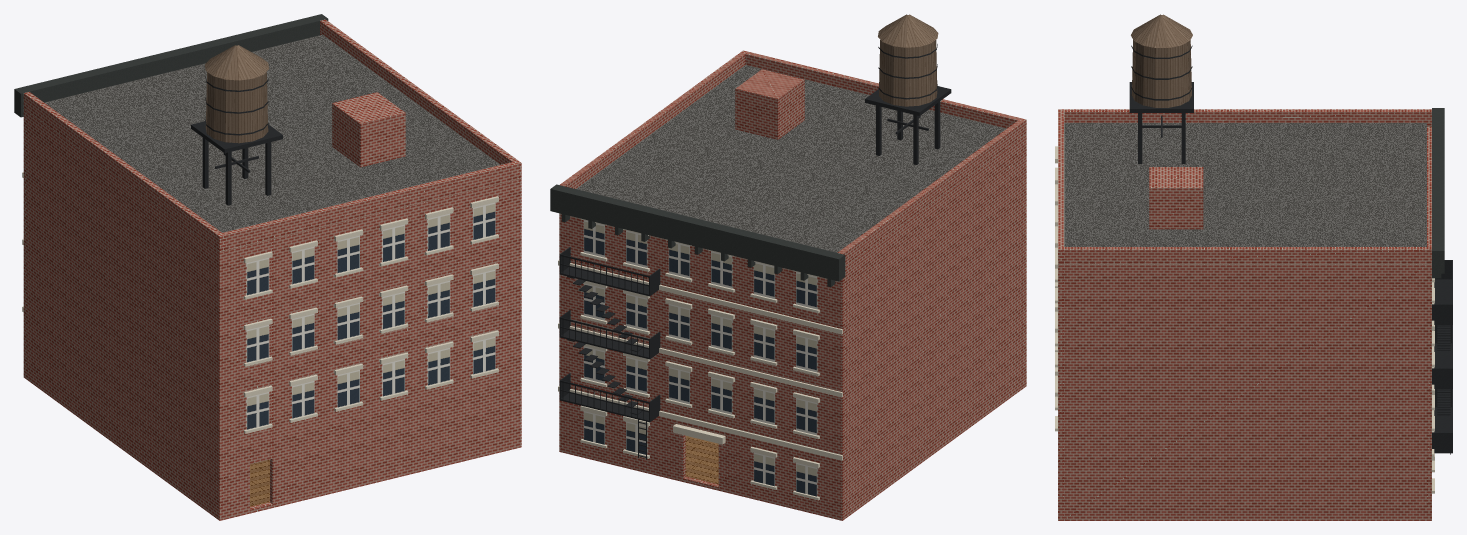
The model's file is walkup_red.glb.
3 views of the same model, side by side, from view 1: azimuth 30°, elevation 25°; view 2: azimuth 150°, elevation 25°; view 3: azimuth 270°, elevation 25° (orthographic). The views are drawn at different scales.
Visible parts, largest first — view 1: walkup_red; view 2: walkup_red; view 3: walkup_red.
Boxes of the visible parts, <box> form: walkup_red: <box>14,14,521,520</box>; walkup_red: <box>550,14,1026,520</box>; walkup_red: <box>1055,14,1452,520</box>.
Bounding box in the file's own units: 16.3 × 21.2 × 19.14.
Materials: 10 (10 with a texture image).
